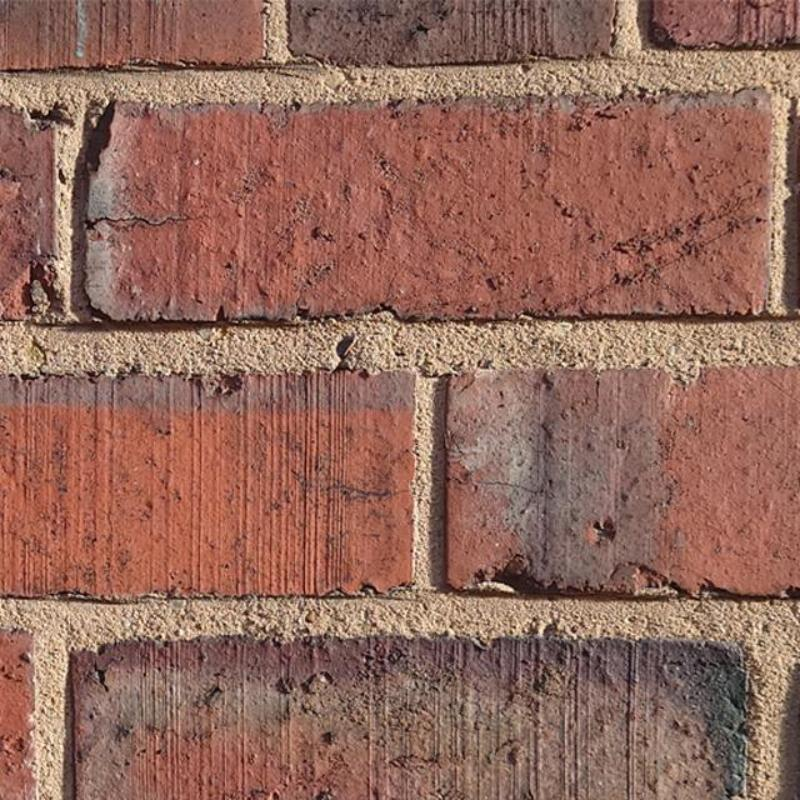pothole: (87, 215, 177, 230)
